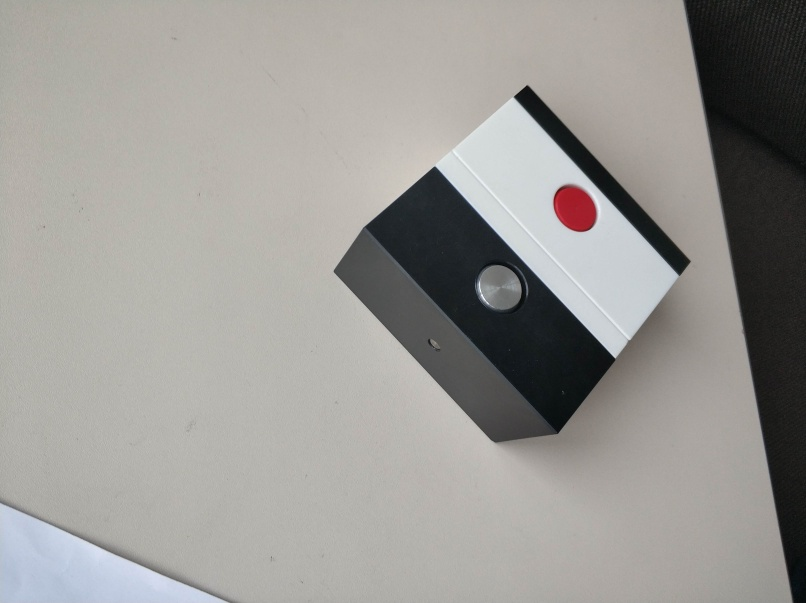black+white+red: (450, 83, 693, 343)
white+black+silver: (330, 148, 632, 446)
